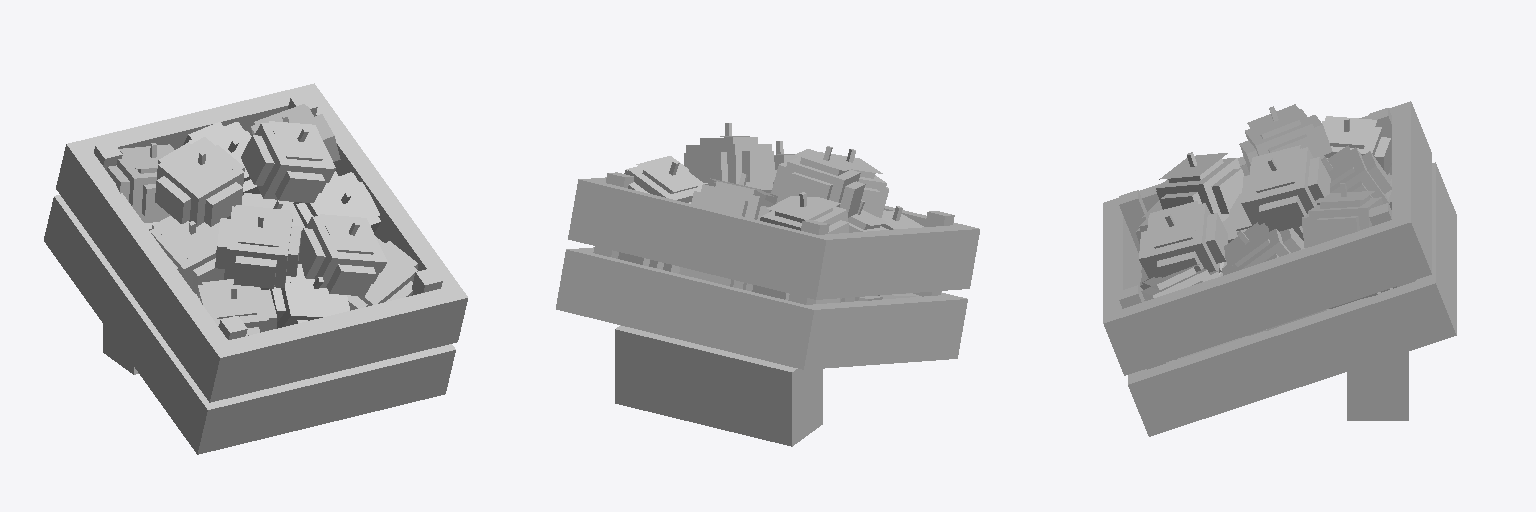
File: 1764_tomatoe_crate.obj
The picture shows the model from 3 angles: view 1: azimuth 30°, elevation 25°; view 2: azimuth 150°, elevation 25°; view 3: azimuth 270°, elevation 25°; orthographic projection.
Parts seen in each view (by area): view 1: tomatoleaves, Plank8, Plank2, Tomato1, Plank9, Plank3, tomato6, Plank5, tomato4, Plank11, tomato5, Stem1 (+3 smaller); view 2: Block, Plank12, Plank11, Plank8, Plank9, Tomato1, tomatoleaves, tomato3, tomato4, tomato2, Plank5, Plank6 (+1 smaller); view 3: Plank5, Plank6, Tomato1, tomatoleaves, tomato3, Plank11, tomato5, Block, Plank2, Plank12, tomato2, tomato6 (+3 smaller).
Boxes of the visible parts, <box> form: tomatoleaves: <box>119,104,411,317</box>; Plank8: <box>56,140,237,402</box>; Plank2: <box>227,289,450,398</box>; Tomato1: <box>116,106,417,332</box>; Plank9: <box>44,195,225,454</box>; Plank3: <box>215,348,437,450</box>; tomato6: <box>142,171,412,335</box>; Plank5: <box>297,83,467,346</box>; tomato4: <box>107,135,367,321</box>; Plank11: <box>85,88,301,153</box>; tomato5: <box>216,114,417,329</box>; Stem1: <box>150,114,359,298</box>; Block: <box>615,325,822,446</box>; Plank12: <box>573,253,803,365</box>; Plank11: <box>586,183,815,294</box>; Plank8: <box>798,225,979,299</box>; Plank9: <box>786,295,967,369</box>; Tomato1: <box>627,144,921,301</box>; tomatoleaves: <box>636,136,923,228</box>; tomato3: <box>618,152,844,302</box>; tomato4: <box>663,151,882,303</box>; tomato2: <box>642,137,909,293</box>; Plank5: <box>568,177,606,243</box>; Plank6: <box>556,247,593,313</box>; Plank5: <box>1103,214,1431,375</box>; Plank6: <box>1128,275,1456,436</box>; Tomato1: <box>1139,109,1392,359</box>; tomatoleaves: <box>1141,104,1376,286</box>; tomato3: <box>1205,115,1396,340</box>; Plank11: <box>1392,110,1431,263</box>; tomato5: <box>1157,134,1380,330</box>; Block: <box>1347,352,1408,420</box>; Plank2: <box>1103,206,1143,314</box>; Plank12: <box>1416,171,1456,325</box>; tomato2: <box>1152,120,1369,290</box>; tomato6: <box>1136,140,1334,361</box>.
Size of the model in its own units: 0.875 by 0.8218 by 1.08.